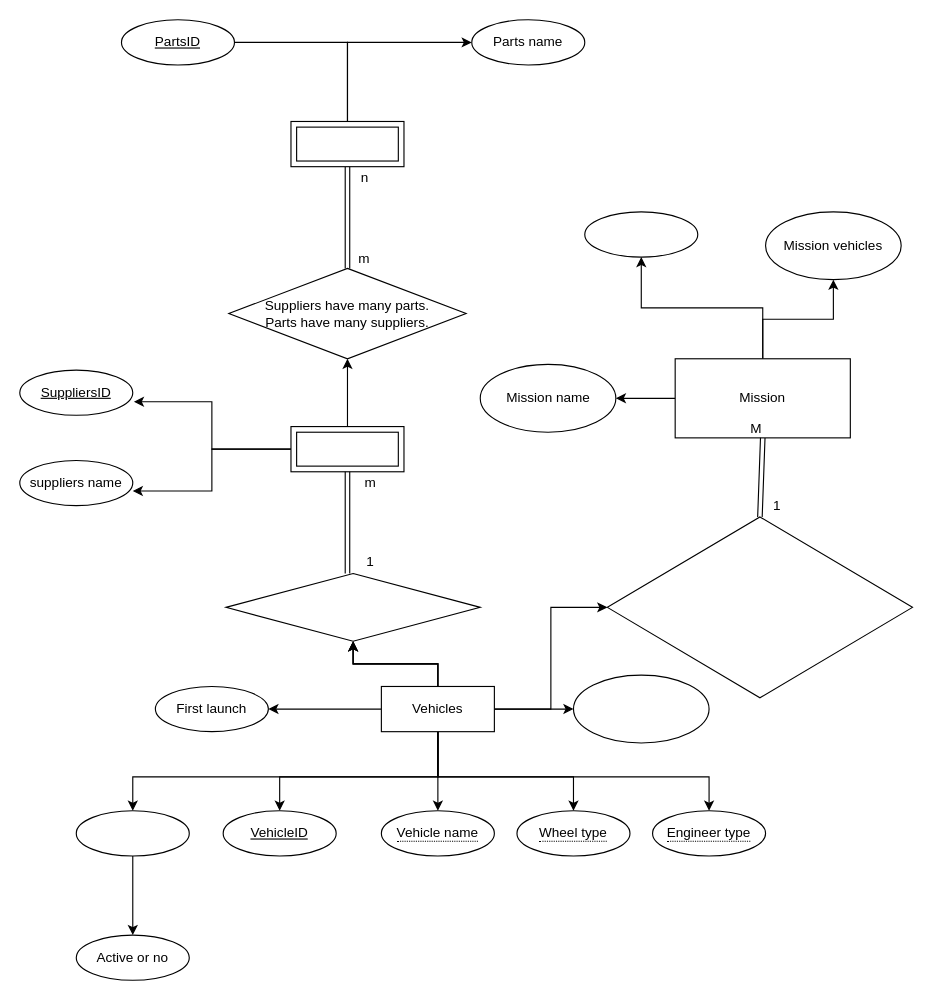
This 932x1000 diagram has some shape labels left out. Here are the shapes that lost their labels. From the top down, the centre of each, then its label:
the point at 347,143: Parts
the point at 641,234: Mission Id
the point at 347,448: Suppliers
the point at 352,606: Vehicle have many suppliers
the point at 759,607: Vehicle may go or not go to missions but mission needs to have many vehicles.
the point at 640,708: Parts Quantity
the point at 132,833: last launch
